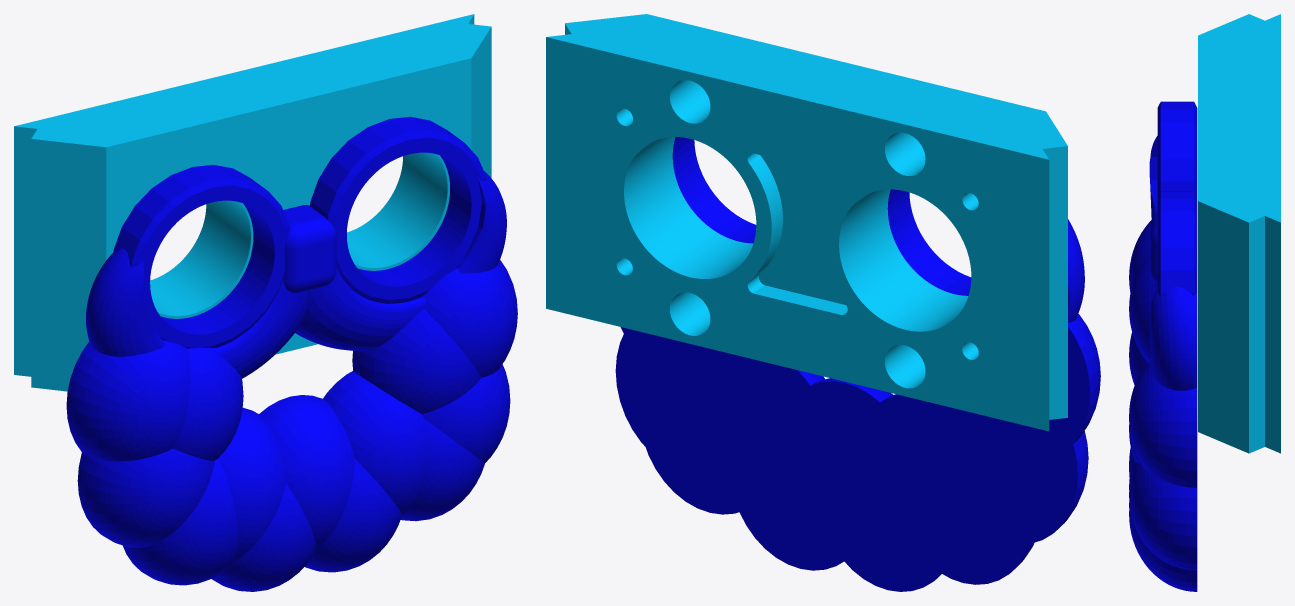
File: FaceSanta.glb
The picture shows the model from 3 angles, left to right: view 1: azimuth 30°, elevation 25°; view 2: azimuth 150°, elevation 25°; view 3: azimuth 270°, elevation 25°; orthographic projection. The views are drawn at different scales.
Parts seen in each view (by area): view 1: Node9, Node1, Node2, Node7, Node3, Node6, Node8, Node4, Node5; view 2: Node9, Node8, Node1, Node7, Node6, Node3, Node2; view 3: Node9, Node2, Node1, Node3, Node7, Node4, Node5, Node8, Node6.
Boxes of the visible parts, box(x1,y1,x2,y2) form: Node9: box(14, 14, 491, 391); Node1: box(82, 155, 515, 569); Node2: box(77, 116, 517, 581); Node7: box(112, 202, 516, 584); Node3: box(66, 248, 515, 562); Node6: box(122, 179, 502, 587); Node8: box(85, 137, 507, 545); Node4: box(90, 240, 500, 591); Node5: box(112, 217, 508, 591); Node9: box(546, 14, 1067, 431); Node8: box(615, 285, 1090, 591); Node1: box(672, 137, 1096, 513); Node7: box(674, 153, 1034, 548); Node6: box(709, 210, 1033, 572); Node3: box(1072, 329, 1100, 511); Node2: box(1068, 247, 1088, 474); Node9: box(1198, 14, 1280, 453); Node2: box(1129, 191, 1197, 551); Node1: box(1129, 101, 1197, 572); Node3: box(1129, 180, 1197, 546); Node7: box(1129, 283, 1197, 507); Node4: box(1129, 141, 1197, 591); Node5: box(1129, 136, 1197, 568); Node8: box(1129, 311, 1197, 531); Node6: box(1129, 181, 1195, 475).
Size of the model in its own units: 62 by 60.97 by 19.07.
